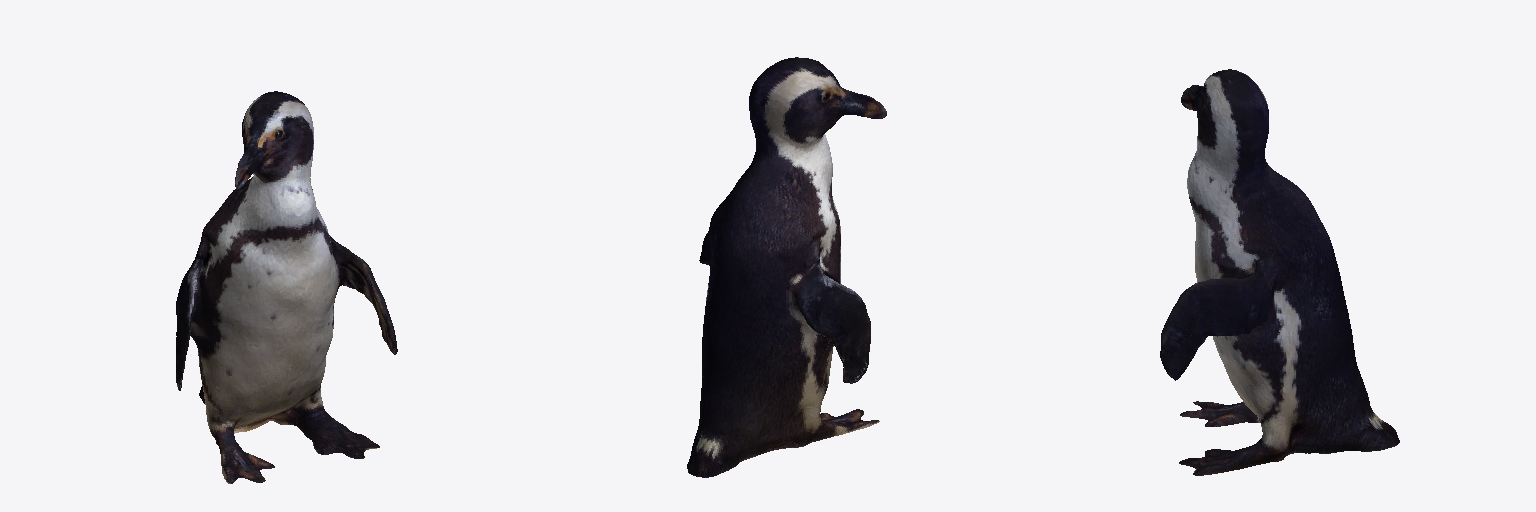
The picture shows the model from 3 angles: view 1: azimuth 30°, elevation 25°; view 2: azimuth 150°, elevation 25°; view 3: azimuth 270°, elevation 25°; orthographic projection.
Size of the model in its own units: 0.2079 by 0.404 by 0.2445.
Materials: 1 (1 with a texture image).